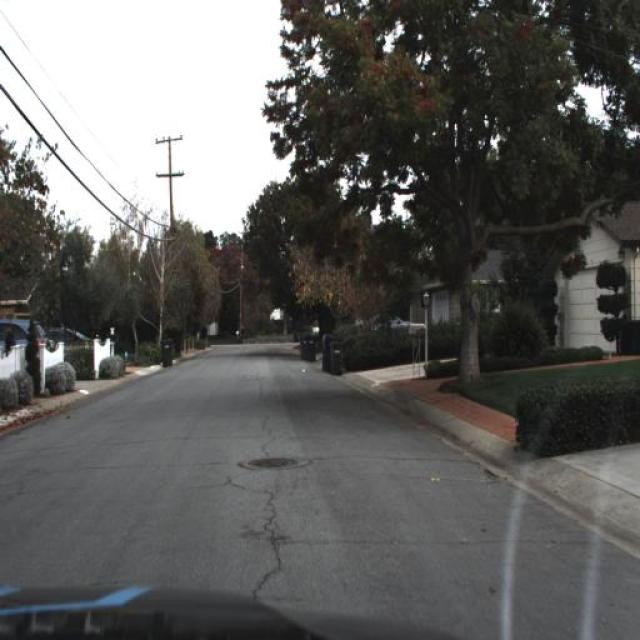car: (44, 322, 98, 367), (376, 308, 424, 346)
